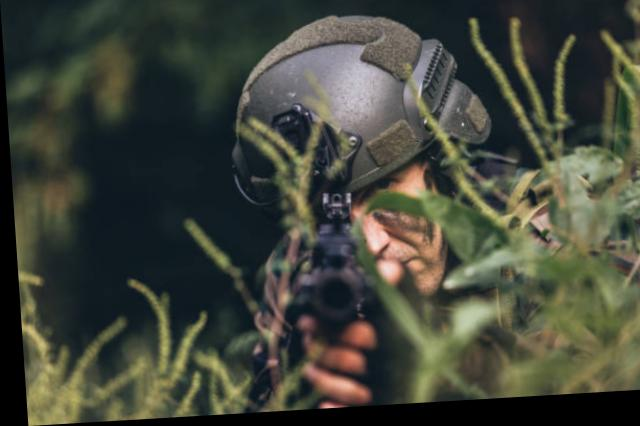other: (241, 53, 509, 413)
